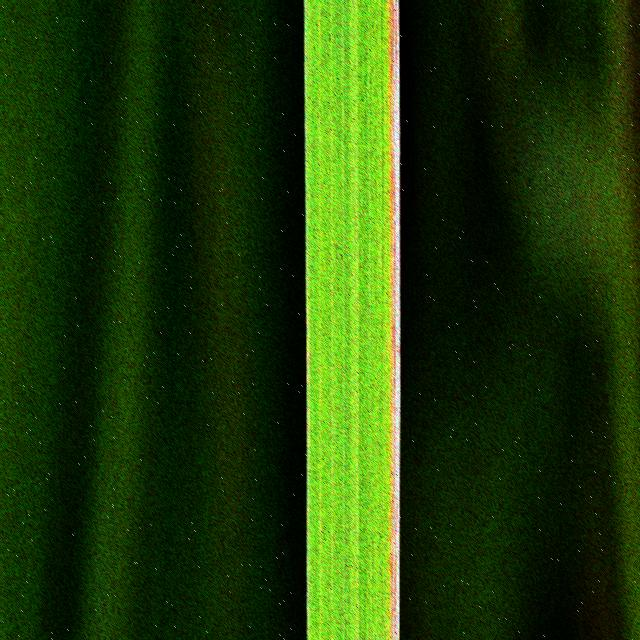BLB: (389, 2, 399, 640)
